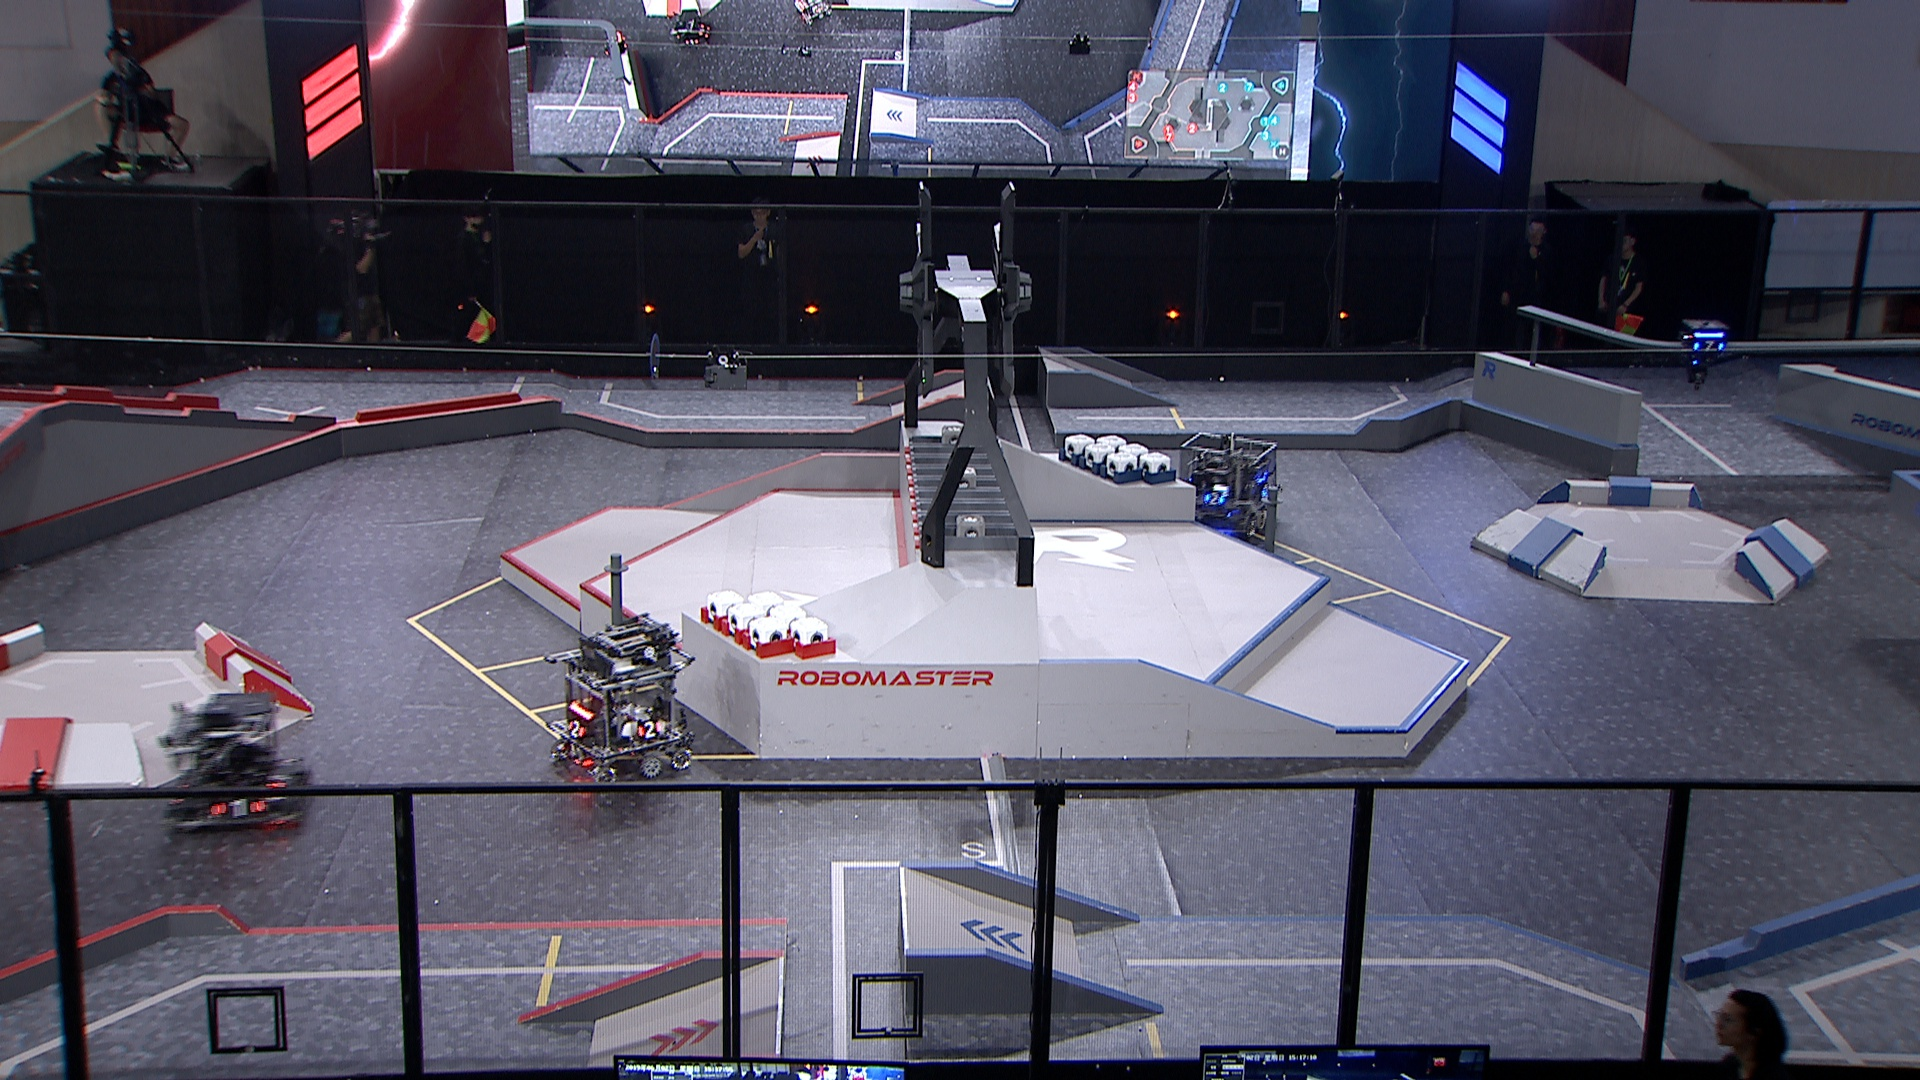armor: (208, 796, 264, 822), (266, 766, 294, 793), (564, 717, 588, 740), (636, 719, 661, 738), (1692, 339, 1724, 353), (1205, 491, 1226, 506)
car: (541, 616, 699, 785), (153, 694, 310, 835), (1174, 429, 1282, 538)
ignore: (667, 11, 712, 50), (603, 29, 629, 59)
watcher: (1677, 319, 1731, 386)
